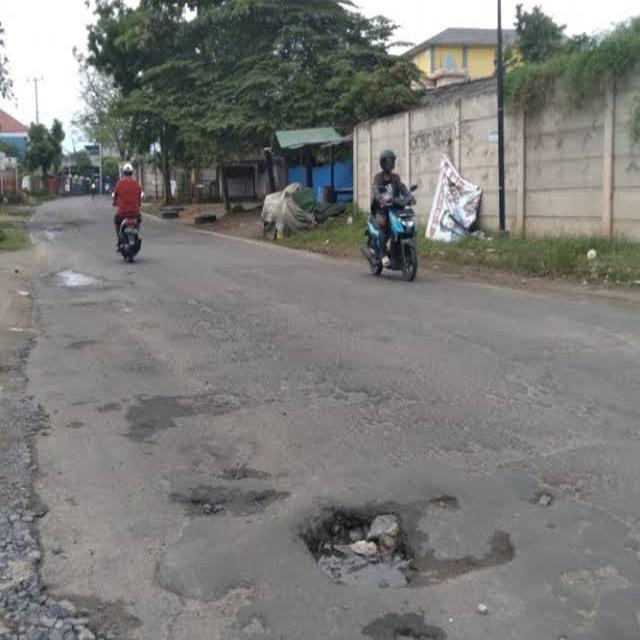Lubang: (299, 501, 427, 595)
